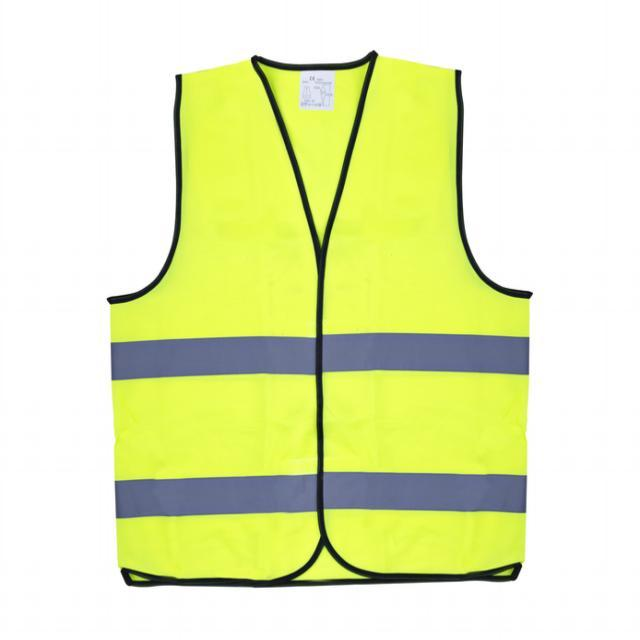reflective_jacket: (83, 47, 544, 603)
